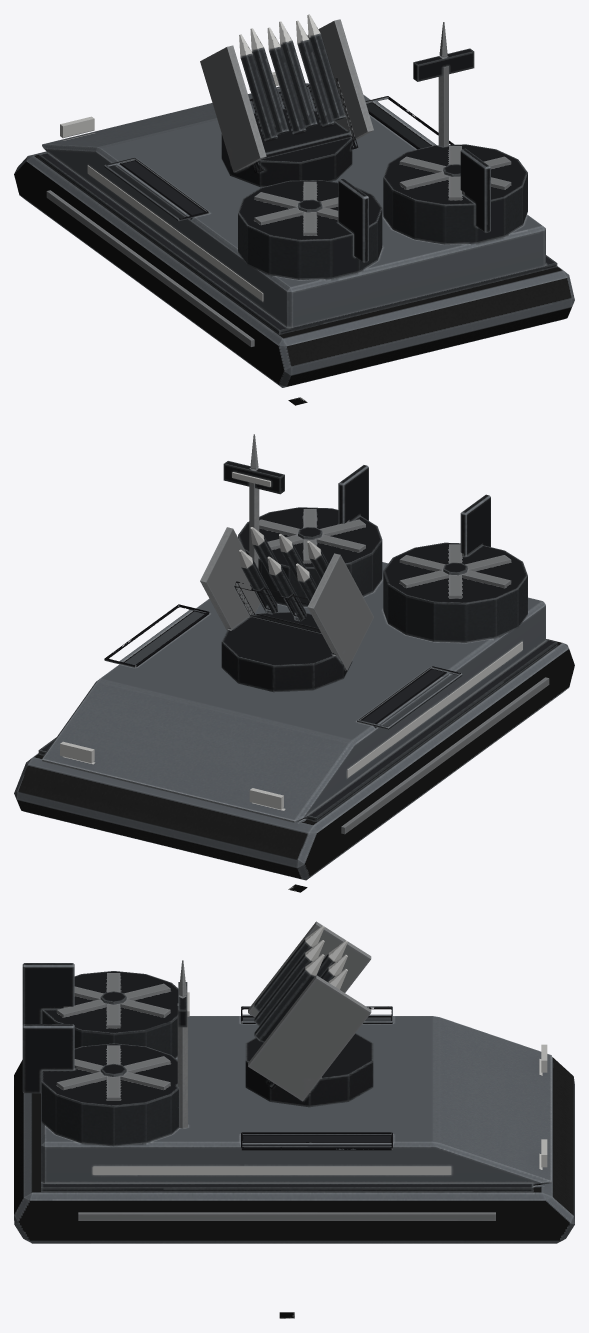
The model's file is chs_skua.fbx.
3 renders of one model, top to bottom at view 1: azimuth 30°, elevation 25°; view 2: azimuth 150°, elevation 25°; view 3: azimuth 270°, elevation 25°, orthographic. The views are drawn at different scales.
Visible parts, largest first — view 1: base_bar, turret_bar, fan1_bar, fan2_bar, base_glow_running_bar, turret_glow_weapon_bar, base_glow_head_bar; view 2: base_bar, turret_bar, fan1_bar, fan2_bar, base_glow_running_bar, turret_glow_weapon_bar, base_glow_head_bar; view 3: base_bar, turret_bar, base_glow_running_bar, fan1_bar, fan2_bar, turret_glow_weapon_bar.
Part boxes in pixels (bbox=[...]): base_bar: bbox=[14, 22, 574, 387]; turret_bar: bbox=[200, 19, 373, 187]; fan1_bar: bbox=[254, 181, 338, 235]; fan2_bar: bbox=[399, 146, 511, 200]; base_glow_running_bar: bbox=[87, 165, 263, 301]; turret_glow_weapon_bar: bbox=[239, 14, 320, 56]; base_glow_head_bar: bbox=[60, 72, 279, 138]; base_bar: bbox=[14, 434, 574, 880]; turret_bar: bbox=[200, 527, 373, 692]; fan1_bar: bbox=[399, 544, 511, 598]; fan2_bar: bbox=[259, 509, 365, 562]; base_glow_running_bar: bbox=[232, 472, 522, 777]; turret_glow_weapon_bar: bbox=[239, 527, 320, 581]; base_glow_head_bar: bbox=[60, 741, 283, 809]; base_bar: bbox=[14, 960, 574, 1243]; turret_bar: bbox=[245, 921, 373, 1107]; base_glow_running_bar: bbox=[93, 992, 451, 1174]; fan1_bar: bbox=[56, 973, 170, 1028]; fan2_bar: bbox=[56, 1045, 170, 1100]; turret_glow_weapon_bar: bbox=[305, 925, 347, 989].
Bounding box in the file's own units: 472 × 595 × 752.
Materials: 2 (2 with a texture image).
